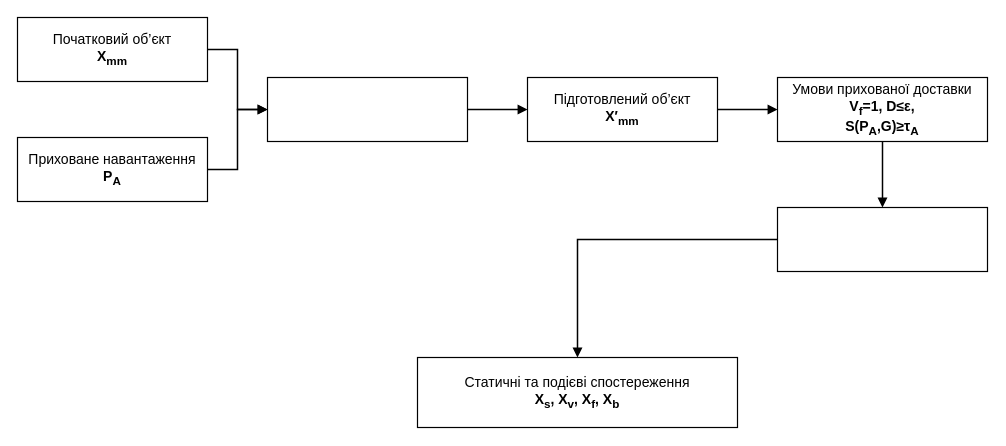
Some shapes in this 1006 by 446 pixel diagram are drawn without their labels. Each missing label, with the centre of its shape:
"Послідовність G g j ∈R web" goes at [882,239].
"Підготовка об’єкта E A (Θ A )" goes at [367,109].
